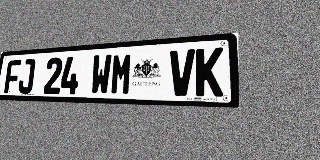2: (44, 57, 63, 94)
4: (60, 56, 80, 94)
F: (4, 60, 21, 93)
J: (17, 59, 36, 94)
K: (195, 47, 223, 97)
M: (110, 53, 133, 95)
V: (169, 49, 195, 96)
W: (90, 54, 112, 95)
